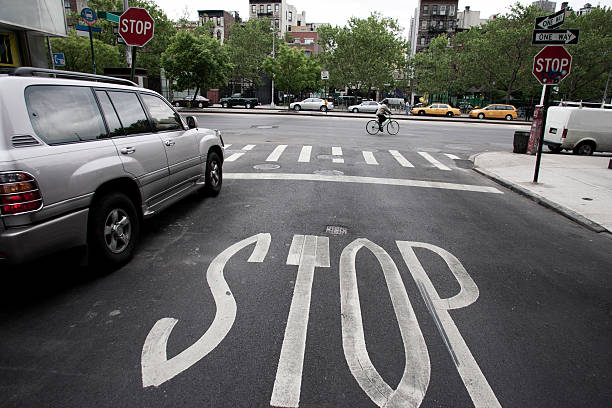StopSign: (531, 43, 572, 84), (117, 8, 153, 47)
